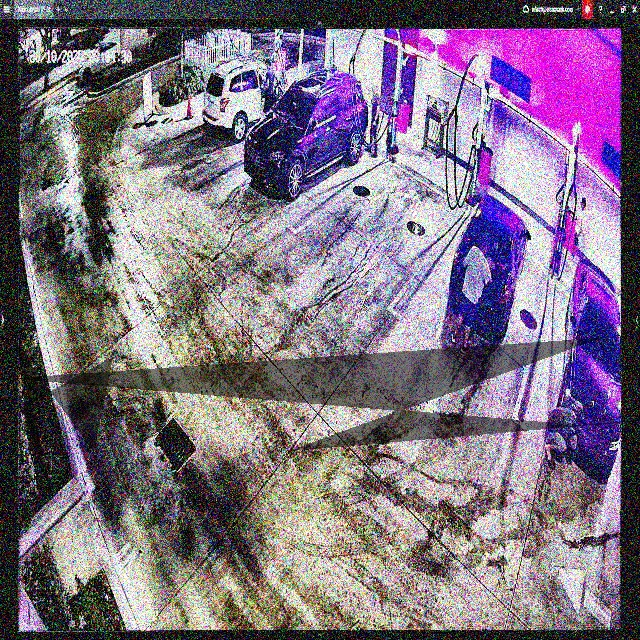Car: (247, 70, 367, 200), (447, 190, 532, 338)
